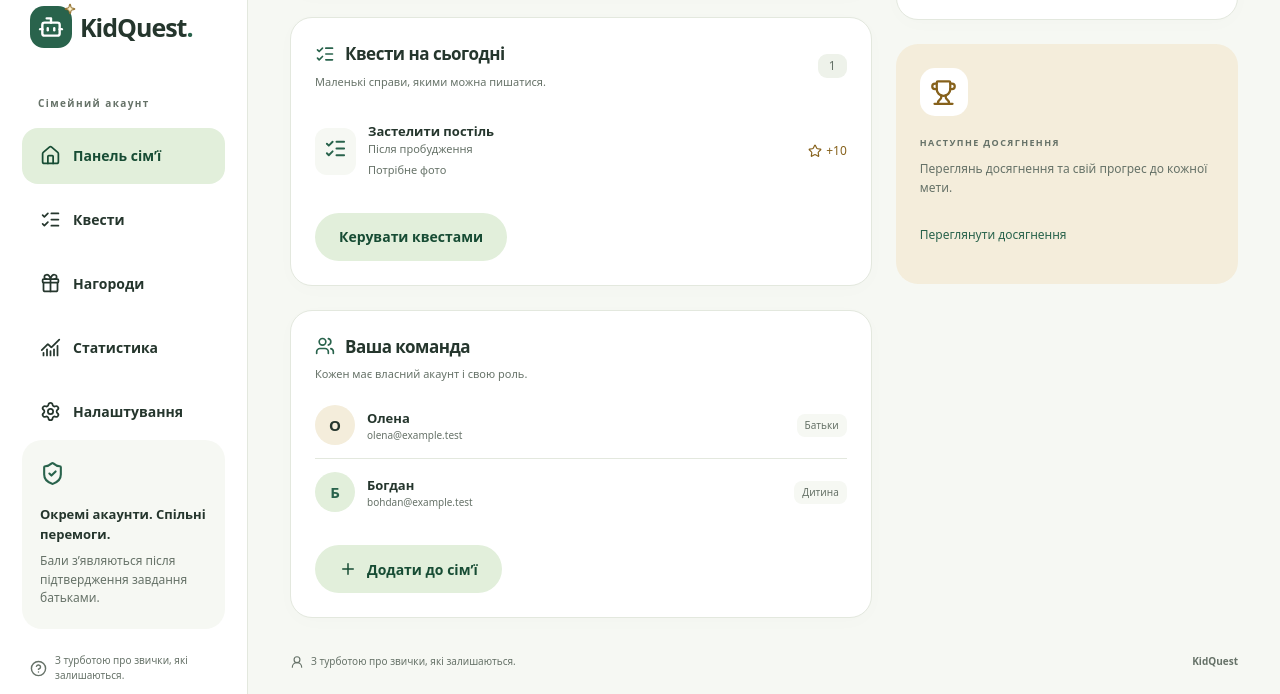
Test: Role-specific dashboards › renders server metrics and allows a parent to add a family member
(page scrolled)
Expected: the heading "Застелити постіль" is shown, [368,122,494,140]
Click the button "Додати до сім’ї": click(408, 569) [315,545,502,593]
(page scrolled)
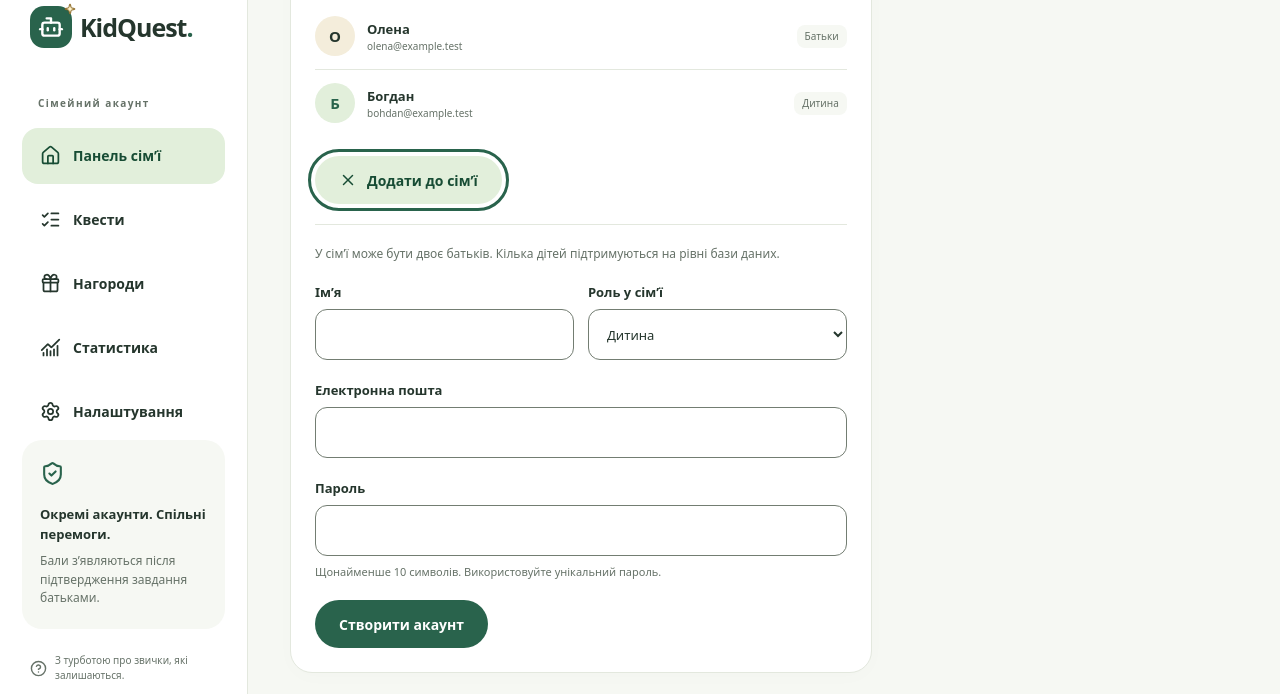
In the field labelled "Ім’я": (444, 335) [315,309,574,360], type "Марія"
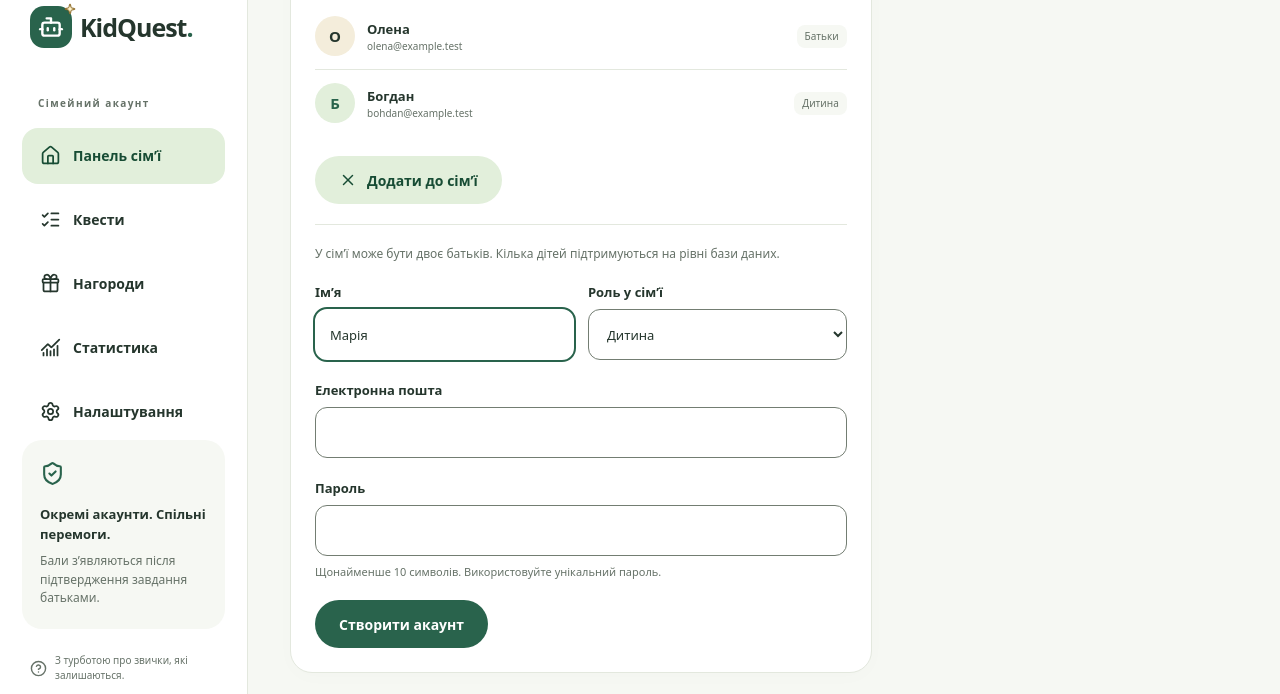
In the field labelled "Електронна пошта": (581, 433) [315,407,847,458], type "maria@example.test"
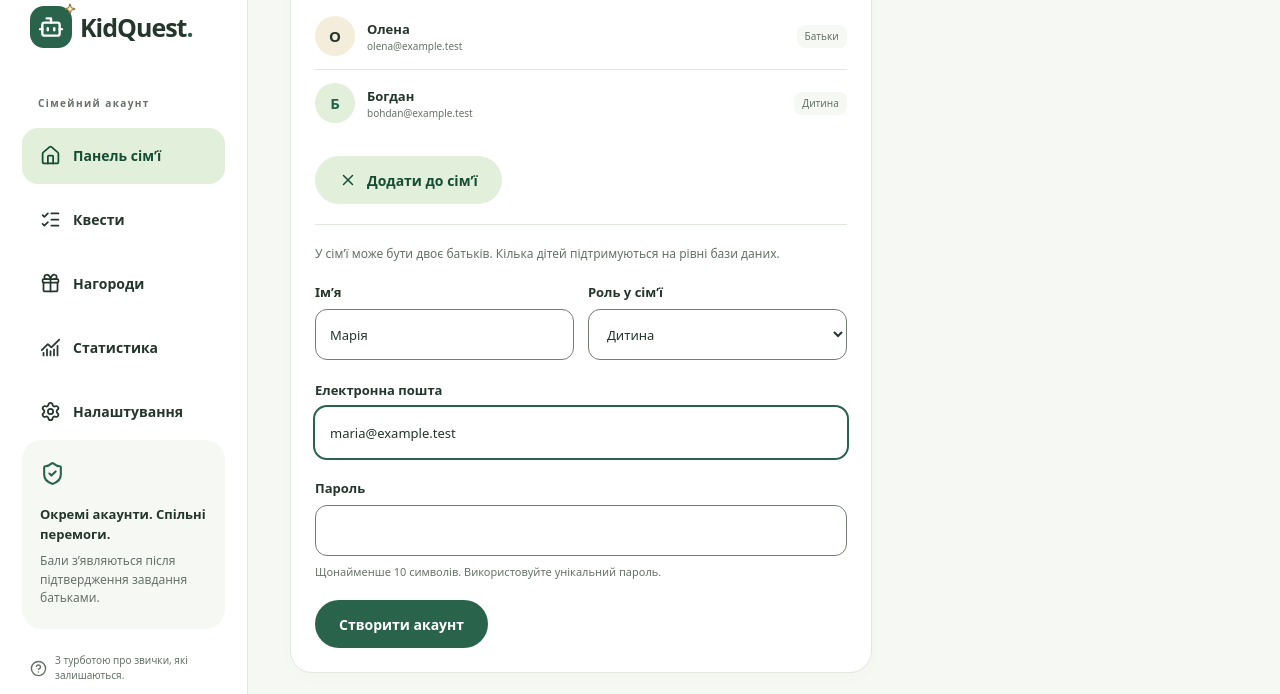
In the password field labelled "Пароль": (581, 531) [315,505,847,556], type "member-password-test"
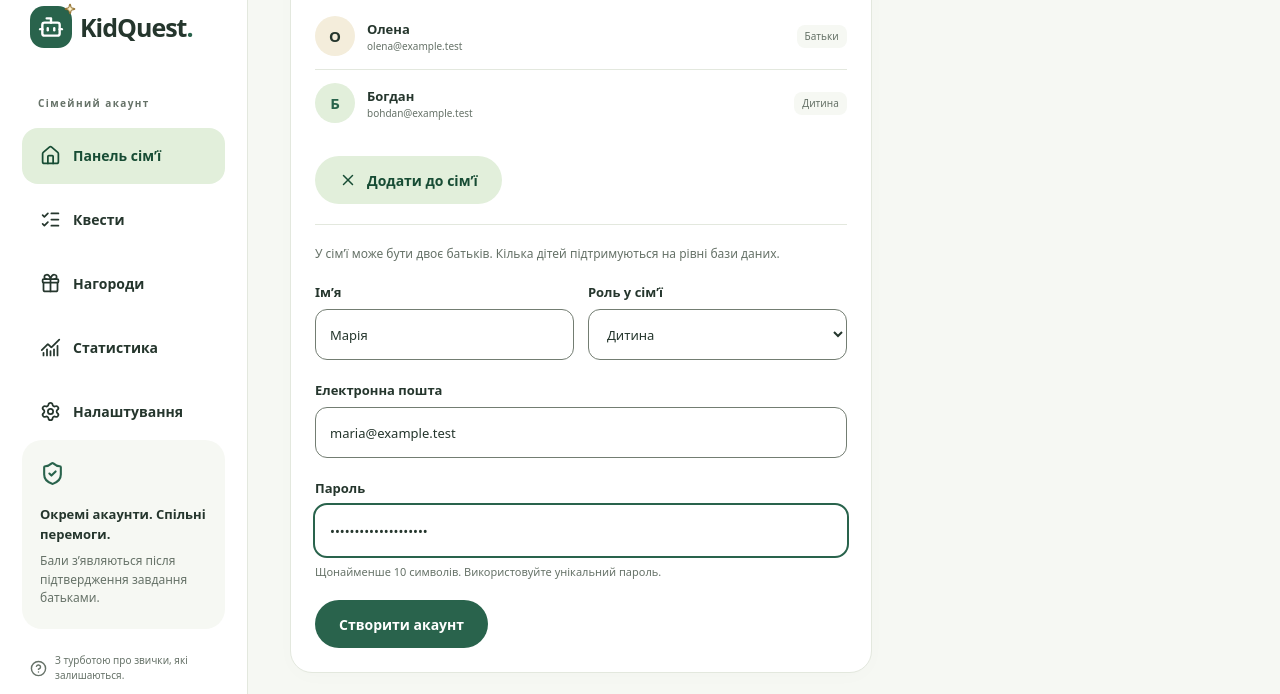
Click the button "Створити акаунт": click(402, 624) [315,600,488,648]
(page scrolled)
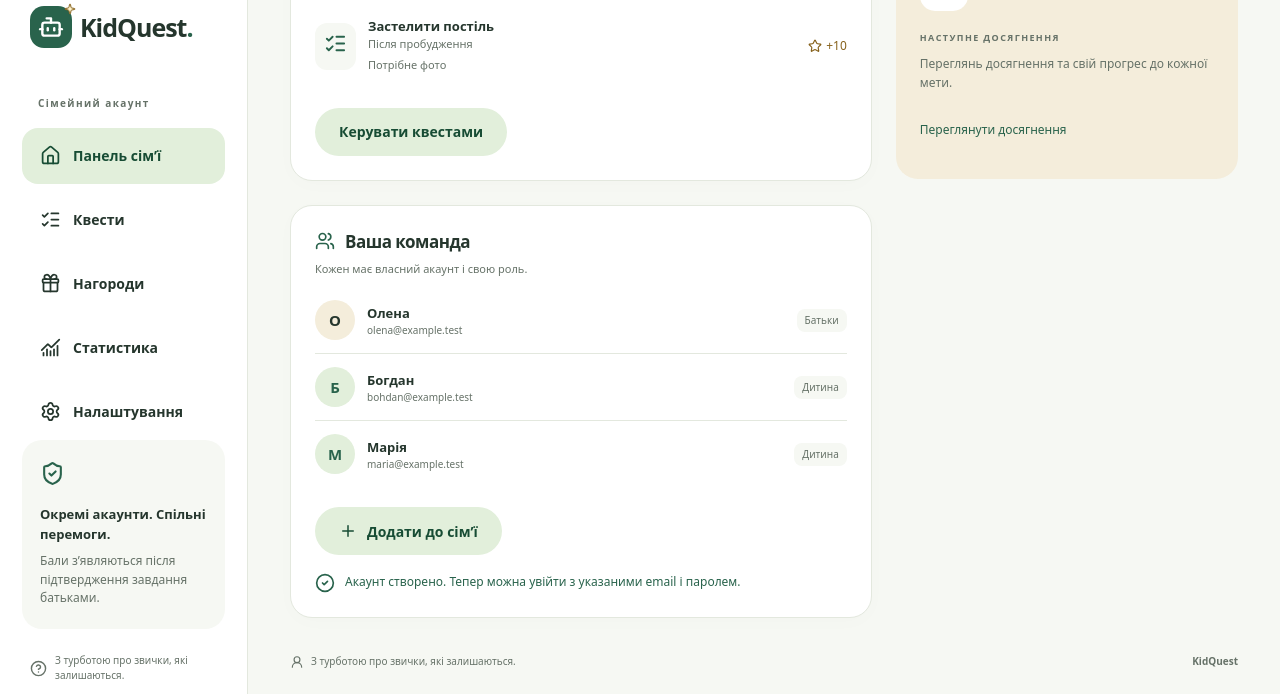
Result: the text "Акаунт створено. Тепер можна увійти з указаними email і паролем." is shown at [315,573,740,593]
Result: the text "maria@example.test" is shown at [367,457,464,472]
